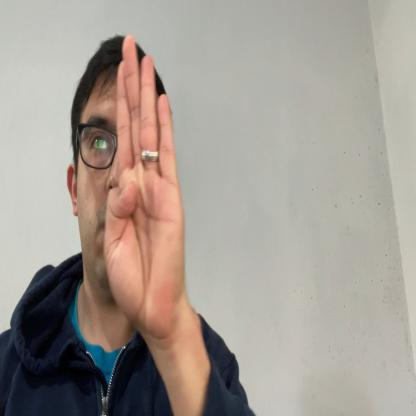B: (103, 34, 186, 338)
